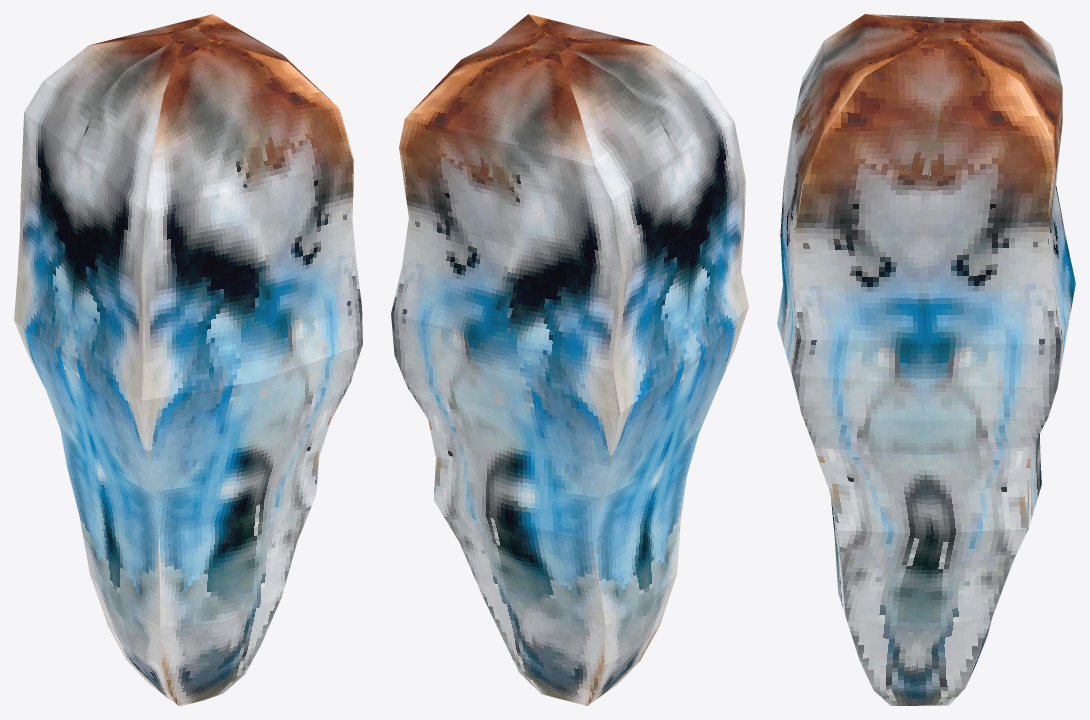
The model's file is metamorphosis_v1.2_t.glb.
3 renders of one model, left to right at view 1: azimuth 30°, elevation 25°; view 2: azimuth 150°, elevation 25°; view 3: azimuth 270°, elevation 25°, orthographic. The views are drawn at different scales.
Parts seen in each view (by area): view 1: metamorphosis_v1; view 2: metamorphosis_v1; view 3: metamorphosis_v1.
Part boxes in pixels (bbox=[...]): metamorphosis_v1: bbox=[14, 14, 362, 705]; metamorphosis_v1: bbox=[391, 14, 748, 705]; metamorphosis_v1: bbox=[777, 14, 1075, 705].
Size of the model in its own units: 0.8716 by 2.22 by 0.8849.
Materials: 1 (1 with a texture image).
